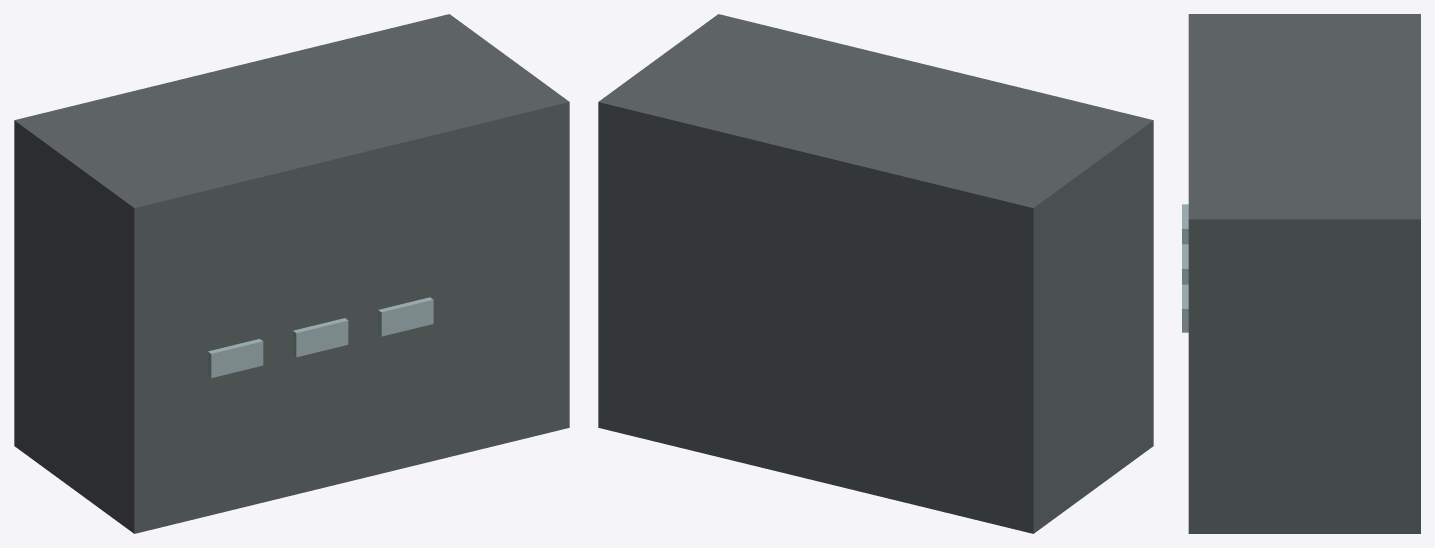
File: stone_saw.glb
3 renders of one model, left to right at view 1: azimuth 30°, elevation 25°; view 2: azimuth 150°, elevation 25°; view 3: azimuth 270°, elevation 25°, orthographic. The views are drawn at different scales.
Size of the model in its own units: 1.84 by 1.32 by 0.905.
Materials: 1 (1 with a texture image).
